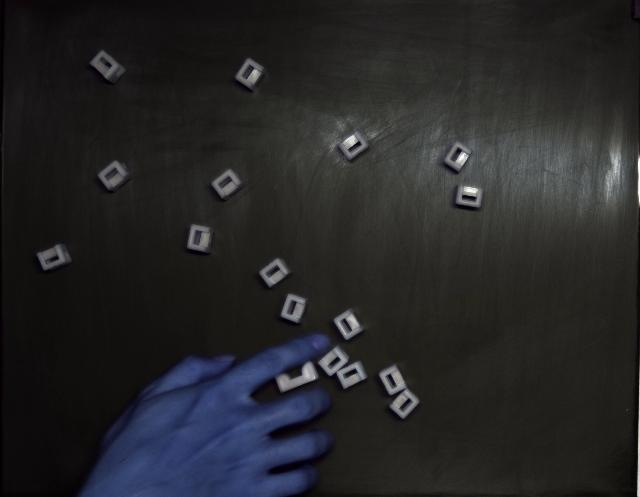fourth_side: (90, 50, 125, 84), (98, 160, 134, 191), (211, 169, 245, 200), (235, 59, 266, 91), (318, 345, 349, 376), (36, 244, 71, 271), (334, 309, 364, 340), (389, 389, 420, 419), (259, 259, 291, 288), (336, 361, 368, 390), (338, 131, 369, 160), (444, 141, 472, 172), (379, 364, 406, 396), (280, 294, 308, 324), (188, 225, 214, 254), (455, 185, 484, 209)
third_side: (275, 361, 319, 394)
